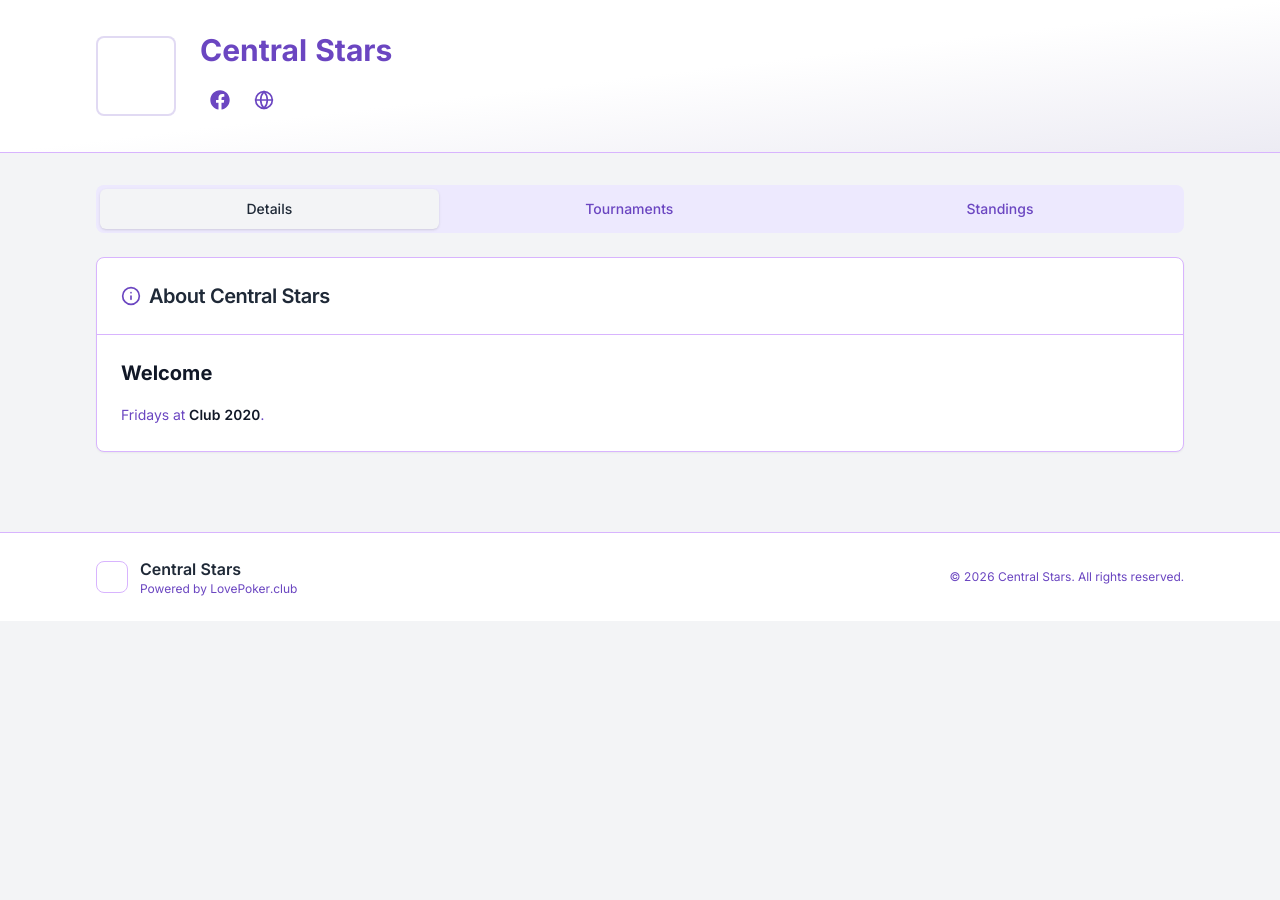
PublicClubPage › says when nothing is coming up
Click the tab "Tournaments". click: (629, 209)
box: [439,189,820,229]
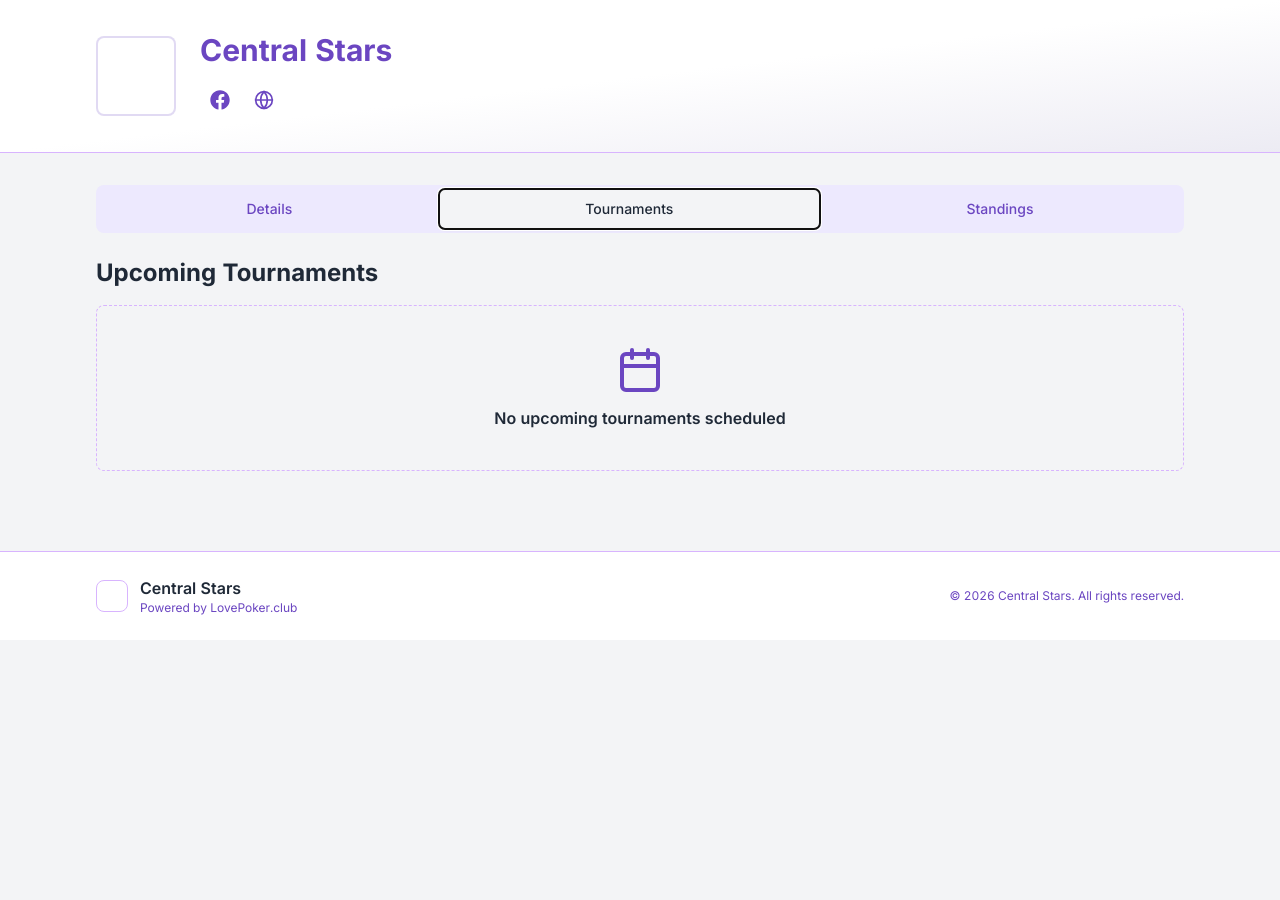
Check: the heading "No upcoming tournaments scheduled" is shown, box [494,406,786,430]
